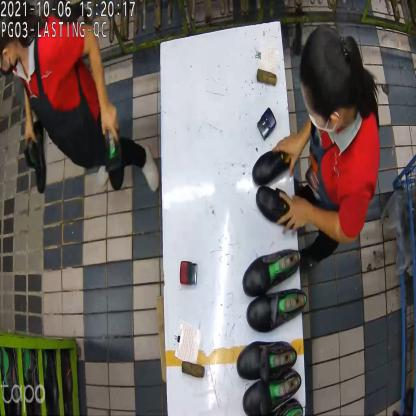shoes: (22, 121, 124, 192), (241, 247, 308, 337), (237, 340, 304, 416), (251, 145, 300, 231)
stamp: (257, 106, 277, 141), (179, 258, 197, 287)
